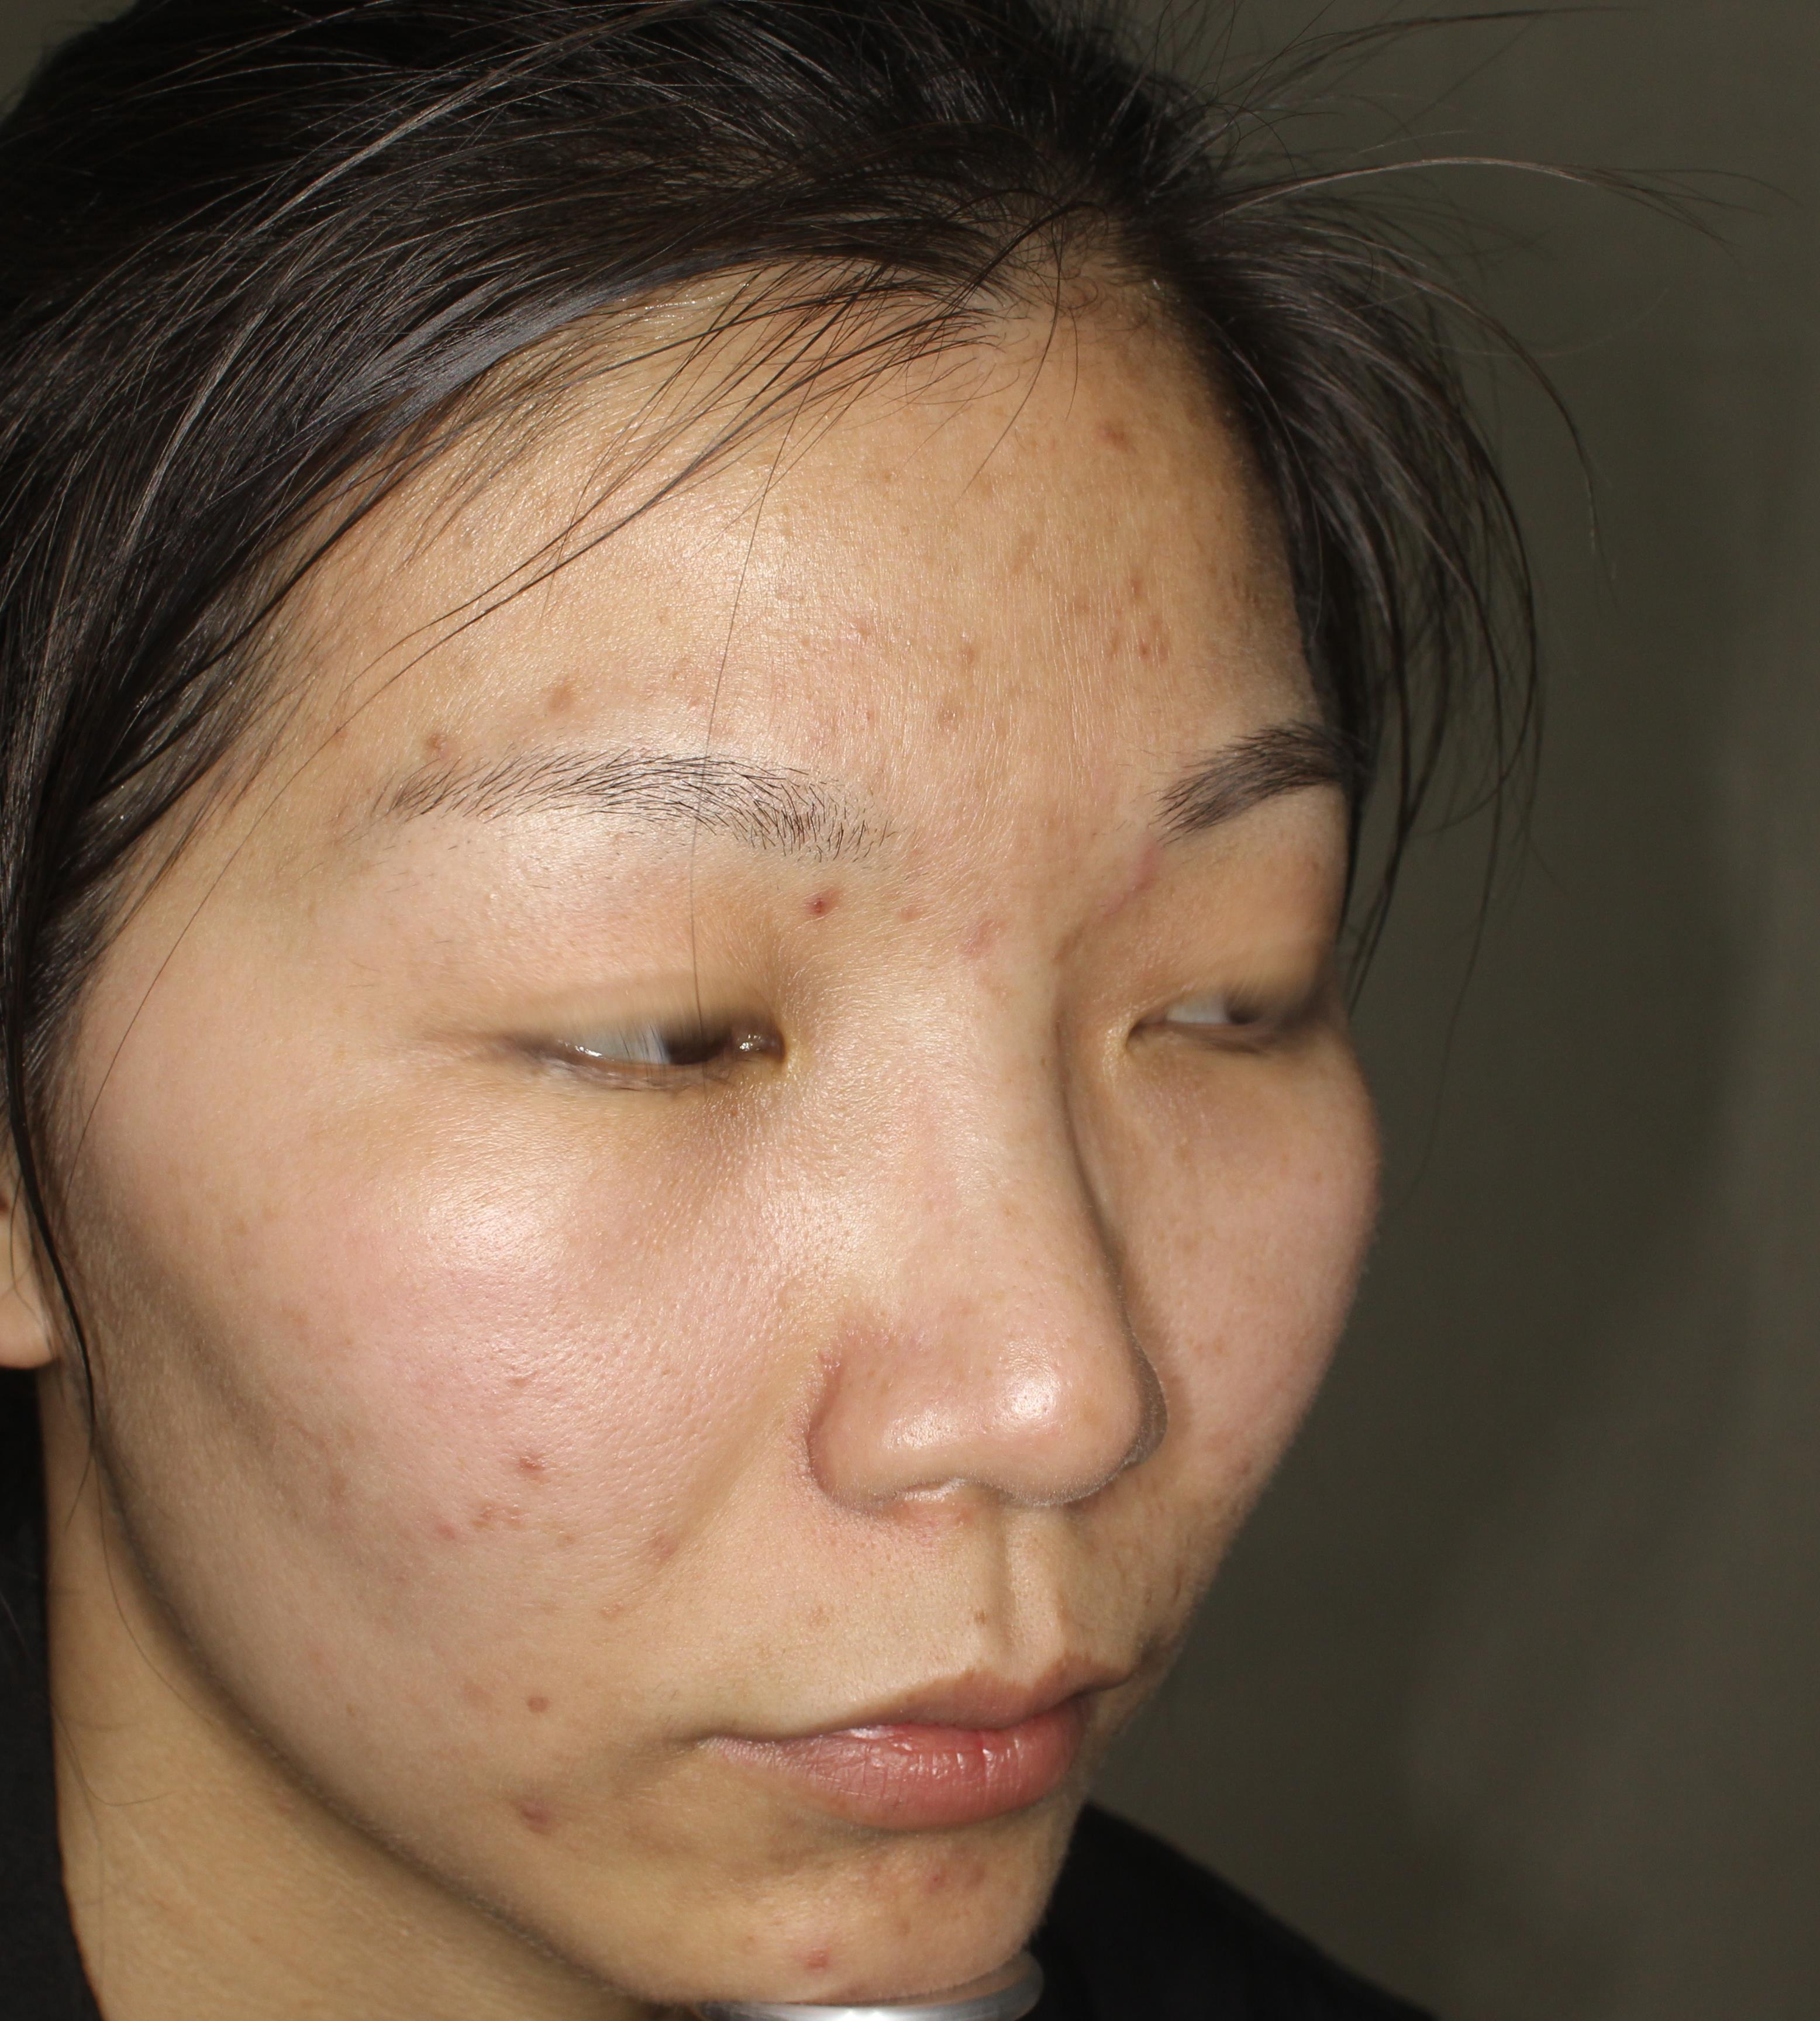fore: (502, 1424, 603, 1508), (494, 1768, 597, 1845), (768, 1907, 852, 1984), (915, 1831, 1010, 1895), (404, 706, 476, 774)
